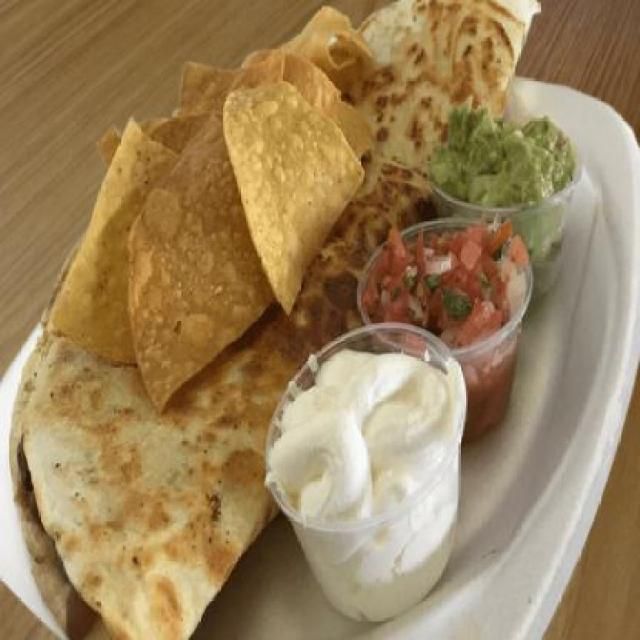chicken quesadilla: (4, 4, 518, 630)
guacamole: (430, 89, 592, 243)
nachos: (62, 4, 370, 398)
